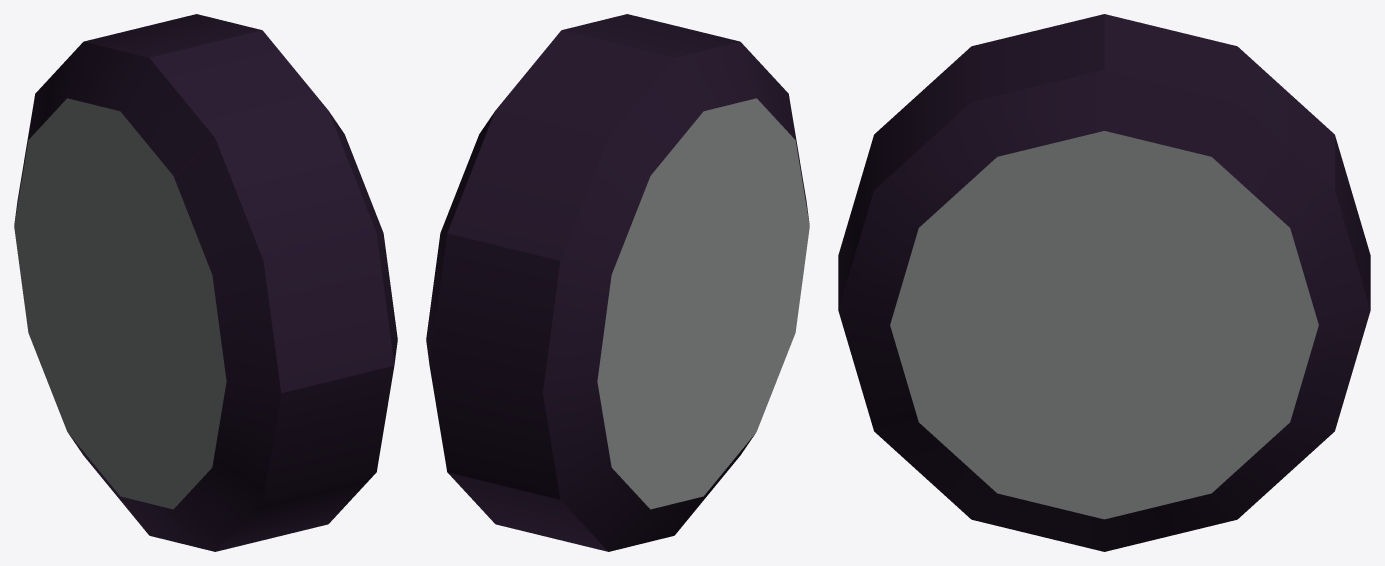
The model's file is tire.fbx.
3 renders of one model, left to right at view 1: azimuth 30°, elevation 25°; view 2: azimuth 150°, elevation 25°; view 3: azimuth 270°, elevation 25°, orthographic.
Visible parts, largest first — view 1: tire1; view 2: tire1; view 3: tire1.
Part boxes in pixels (x1,y1,x2,y2): tire1: (14,14,397,551); tire1: (426,14,809,551); tire1: (838,14,1370,551).
Size of the model in its own units: 30 by 80 by 80.
